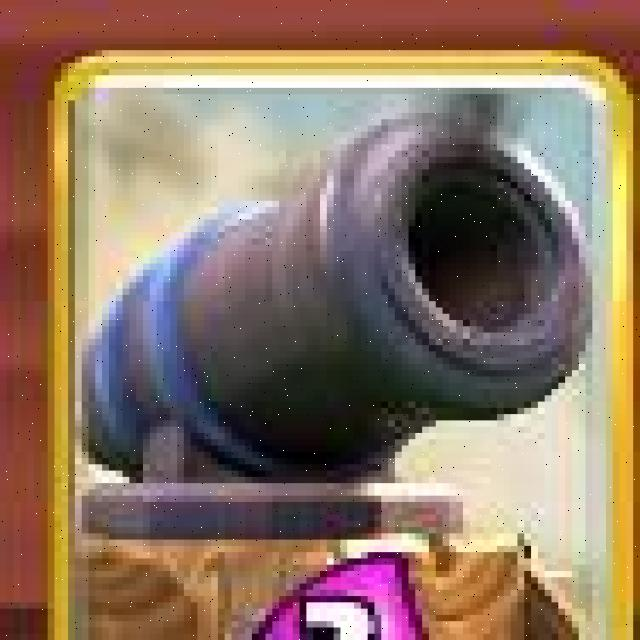Cannon: (49, 50, 634, 640)
